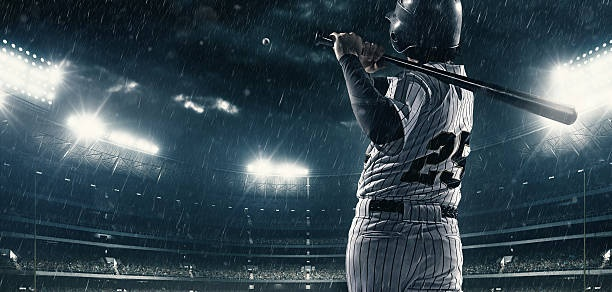bita: (321, 32, 579, 124)
